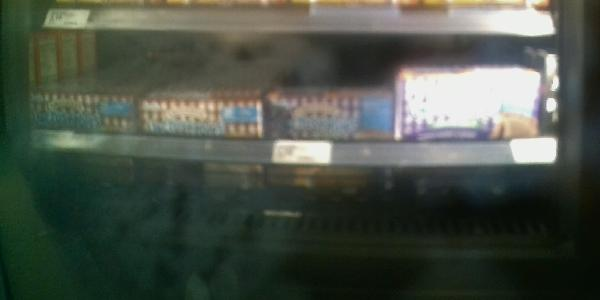icecream: (394, 57, 544, 139), (265, 86, 395, 145), (143, 88, 263, 139), (29, 89, 141, 138)
